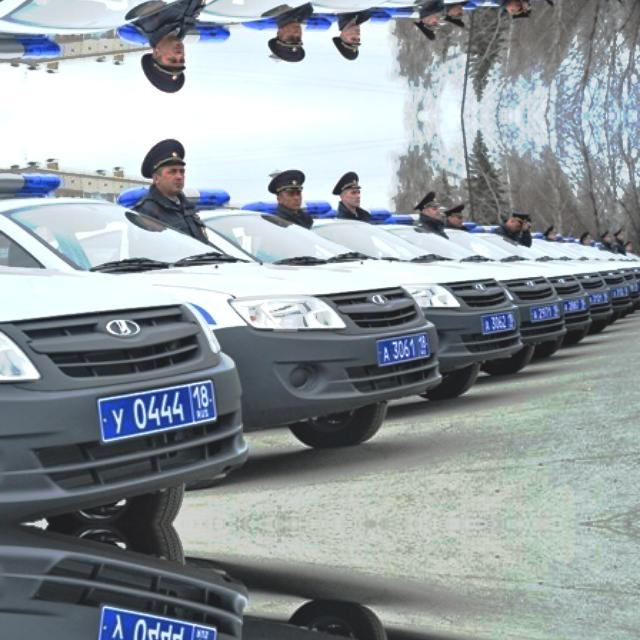police: (96, 380, 218, 442), (96, 604, 218, 640), (372, 329, 432, 365)
